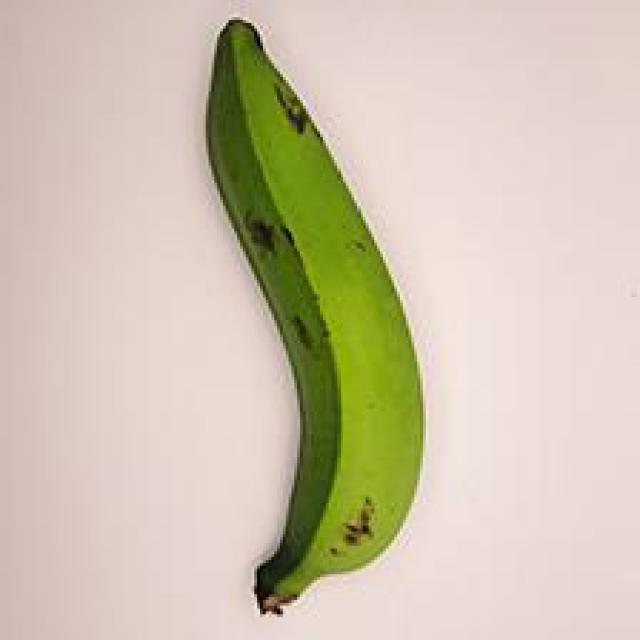Raw: (173, 13, 452, 621)
